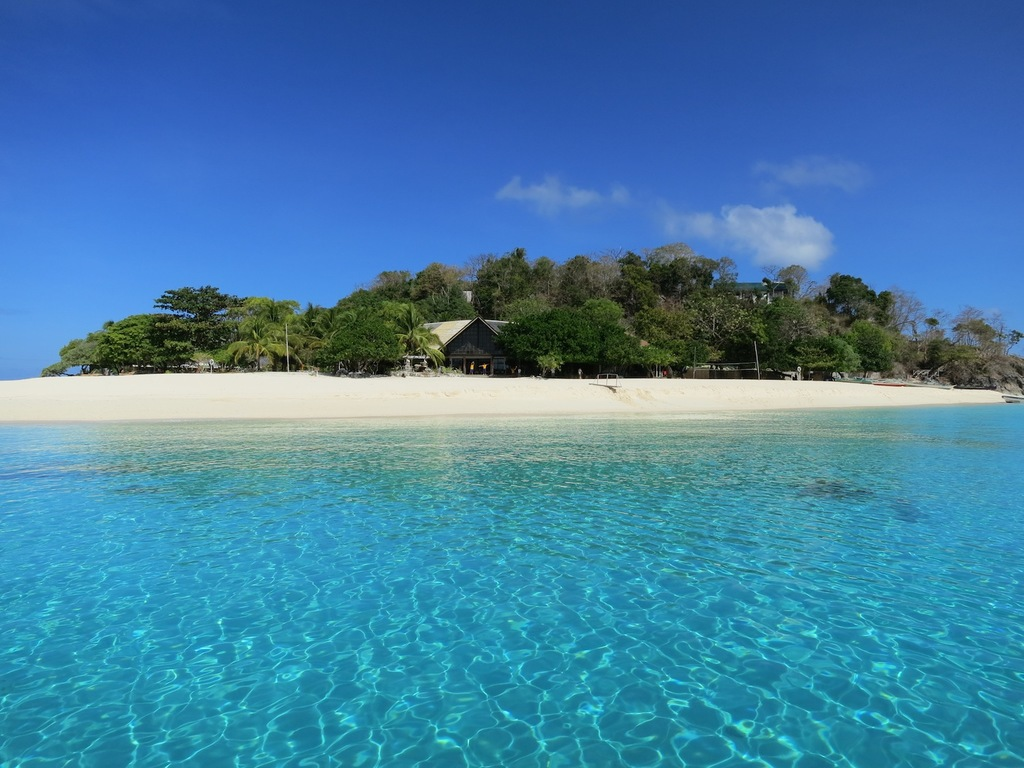Tree: (39, 240, 1024, 389)
